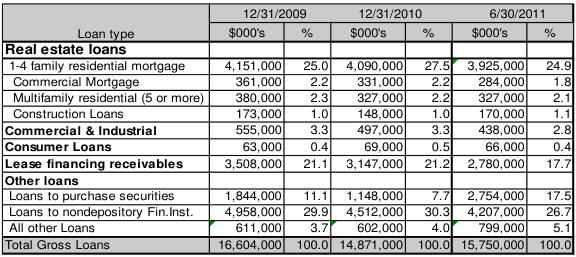table: (3, 4, 570, 251)
table column: (3, 4, 210, 251), (210, 4, 288, 251), (332, 4, 409, 251), (454, 4, 530, 251), (409, 4, 454, 251), (288, 4, 332, 251), (530, 4, 570, 251)
table column header: (3, 4, 570, 39)
table projected row header: (3, 39, 570, 56), (3, 170, 570, 187)
table row: (3, 21, 570, 39), (3, 4, 570, 21), (3, 39, 570, 56), (3, 120, 570, 137), (3, 153, 570, 170), (3, 170, 570, 187), (3, 234, 570, 251), (3, 56, 570, 72), (3, 72, 570, 88), (3, 88, 570, 104), (3, 104, 570, 120), (3, 137, 570, 153), (3, 202, 570, 218), (3, 218, 570, 234), (3, 187, 570, 202)
table spanning cell: (3, 4, 210, 39), (210, 4, 332, 21), (332, 4, 454, 21), (454, 4, 570, 21)
